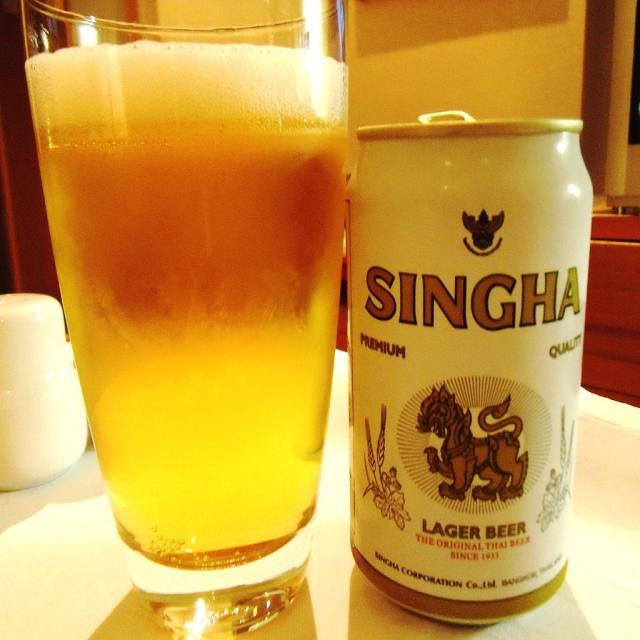singha: (354, 257, 589, 565)
